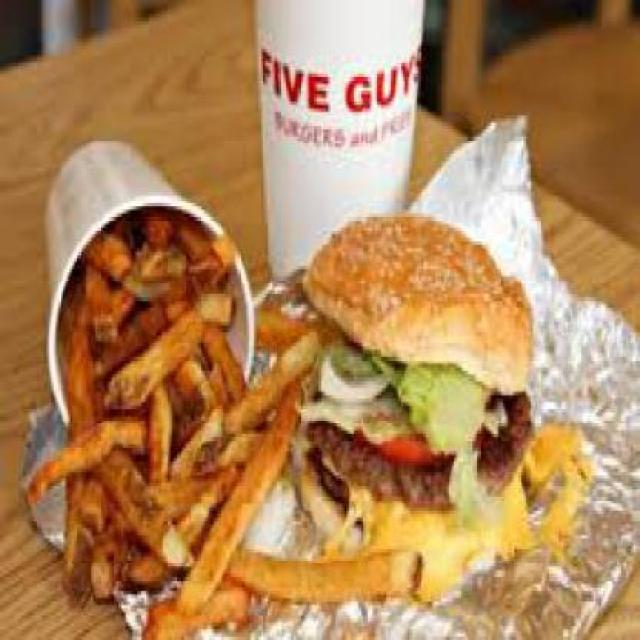hamburger: (284, 207, 559, 518)
sweet potato: (43, 202, 374, 630)
